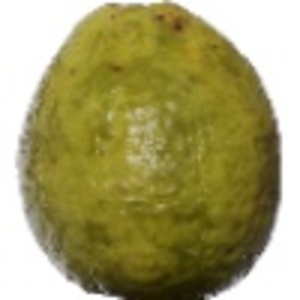goiaba: (11, 3, 289, 298)
